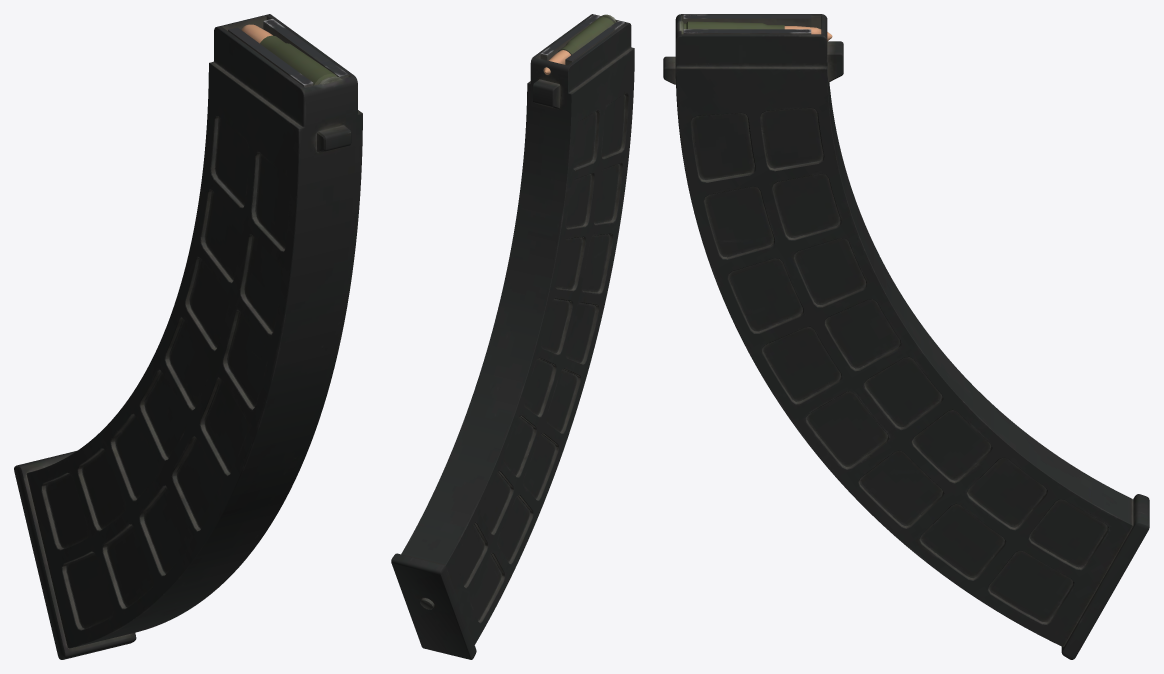
File: carregador_762_40.glb
3 renders of one model, left to right at view 1: azimuth 30°, elevation 25°; view 2: azimuth 150°, elevation 25°; view 3: azimuth 270°, elevation 25°, orthographic. The views are drawn at different scales.
Visible parts, largest first — view 1: carregador_762_40_carregador; view 2: carregador_762_40_carregador; view 3: carregador_762_40_carregador.
Boxes of the visible parts, box(x1,y1,x2,y2) form: carregador_762_40_carregador: box(14, 14, 362, 659); carregador_762_40_carregador: box(391, 14, 634, 659); carregador_762_40_carregador: box(663, 14, 1149, 659).
Bounding box in the file's own units: 0.0258 × 0.2542 × 0.1793.
Materials: 1 (1 with a texture image).
